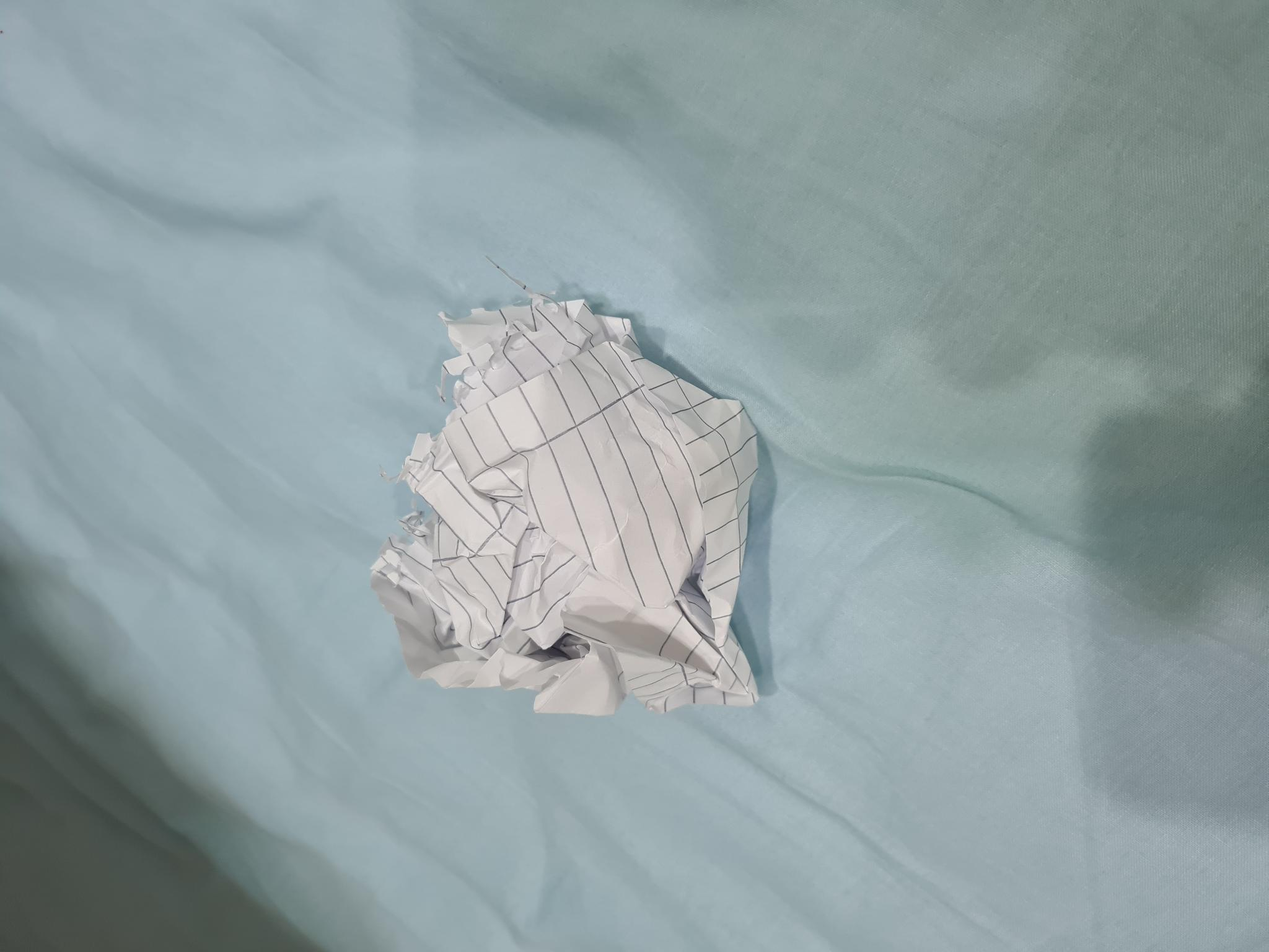Kertas: (239, 394, 591, 755)
